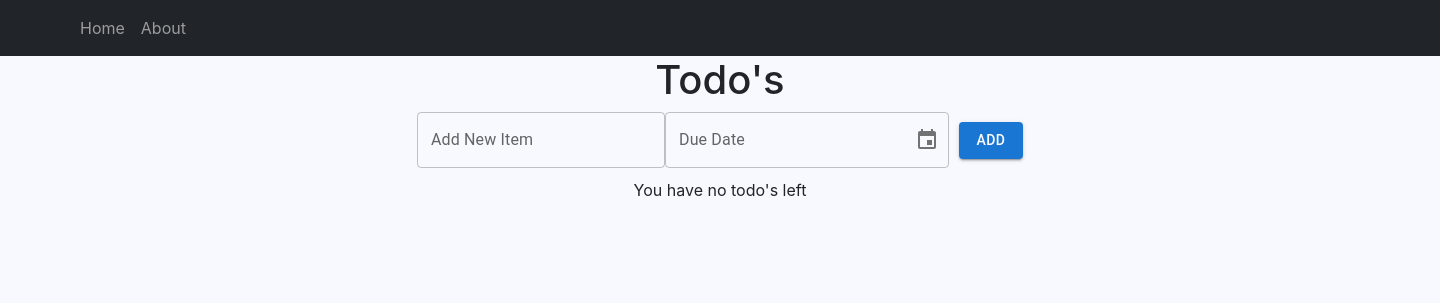
Scenario: test that App component can be deleted thru checkbox
Type "Project 3" into the field labelled "Add New Item" at [541, 140], box [417,112,665,168]
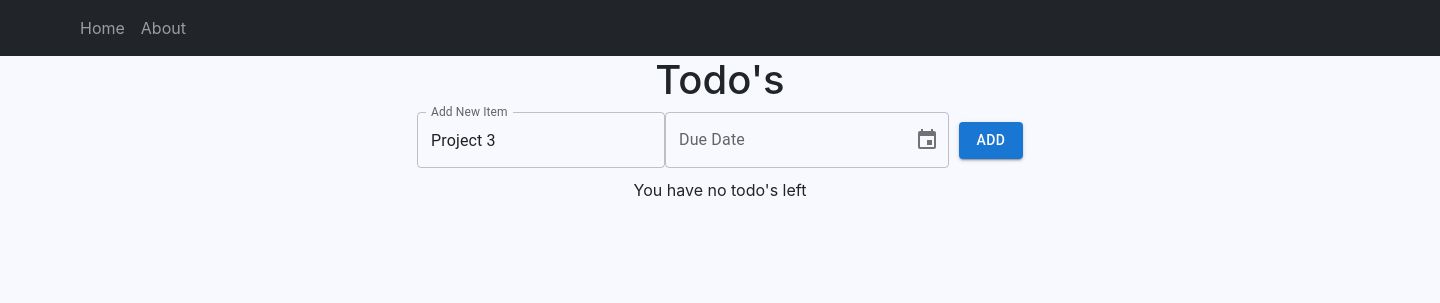
Type "06/27/2023" into the field labelled "Due Date" at [782, 140], box [665,112,899,168]
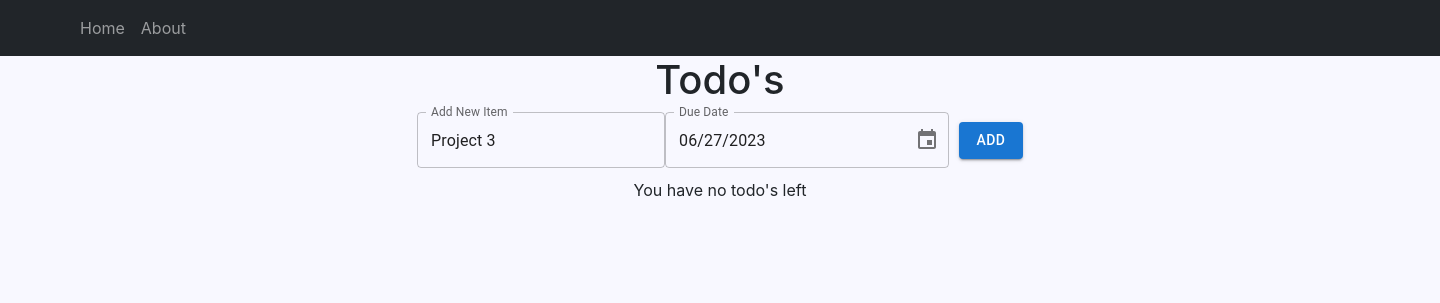
Click the button "Add" at [991, 140], box [959,122,1023,158]
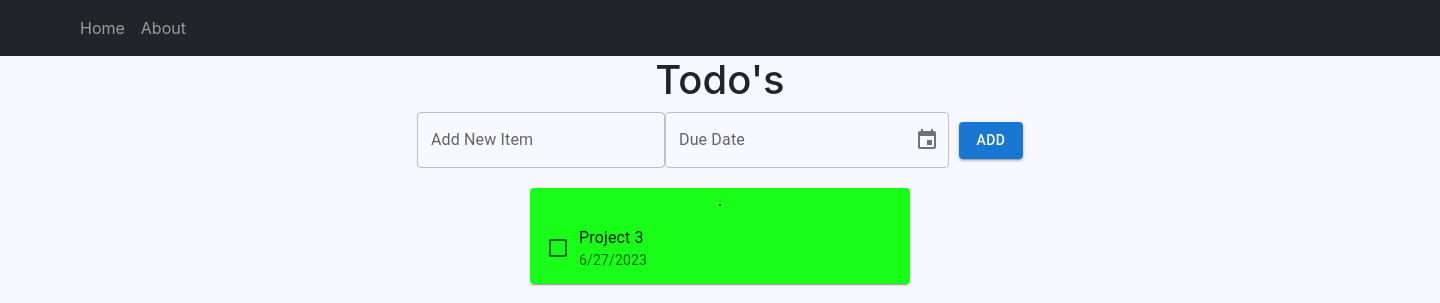
Click the checkbox at [558, 248], box [546,236,570,260]
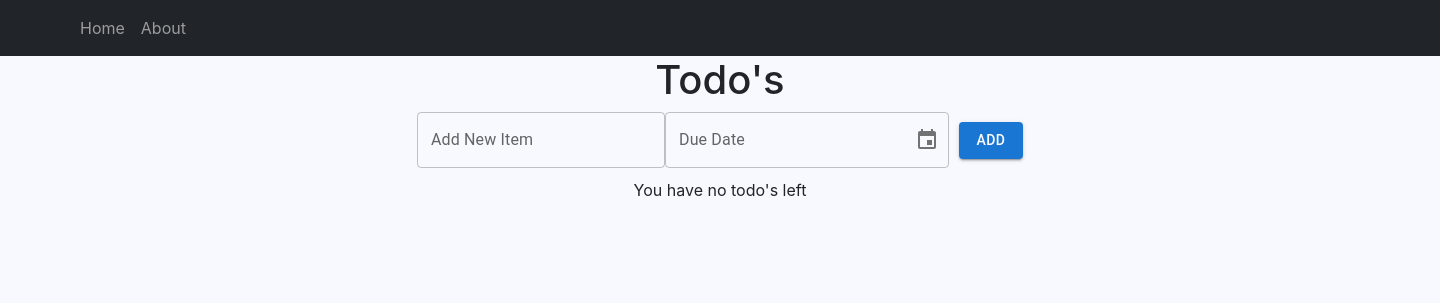
Result: the text "You have no todo's left" is shown at [634,180,806,200]
